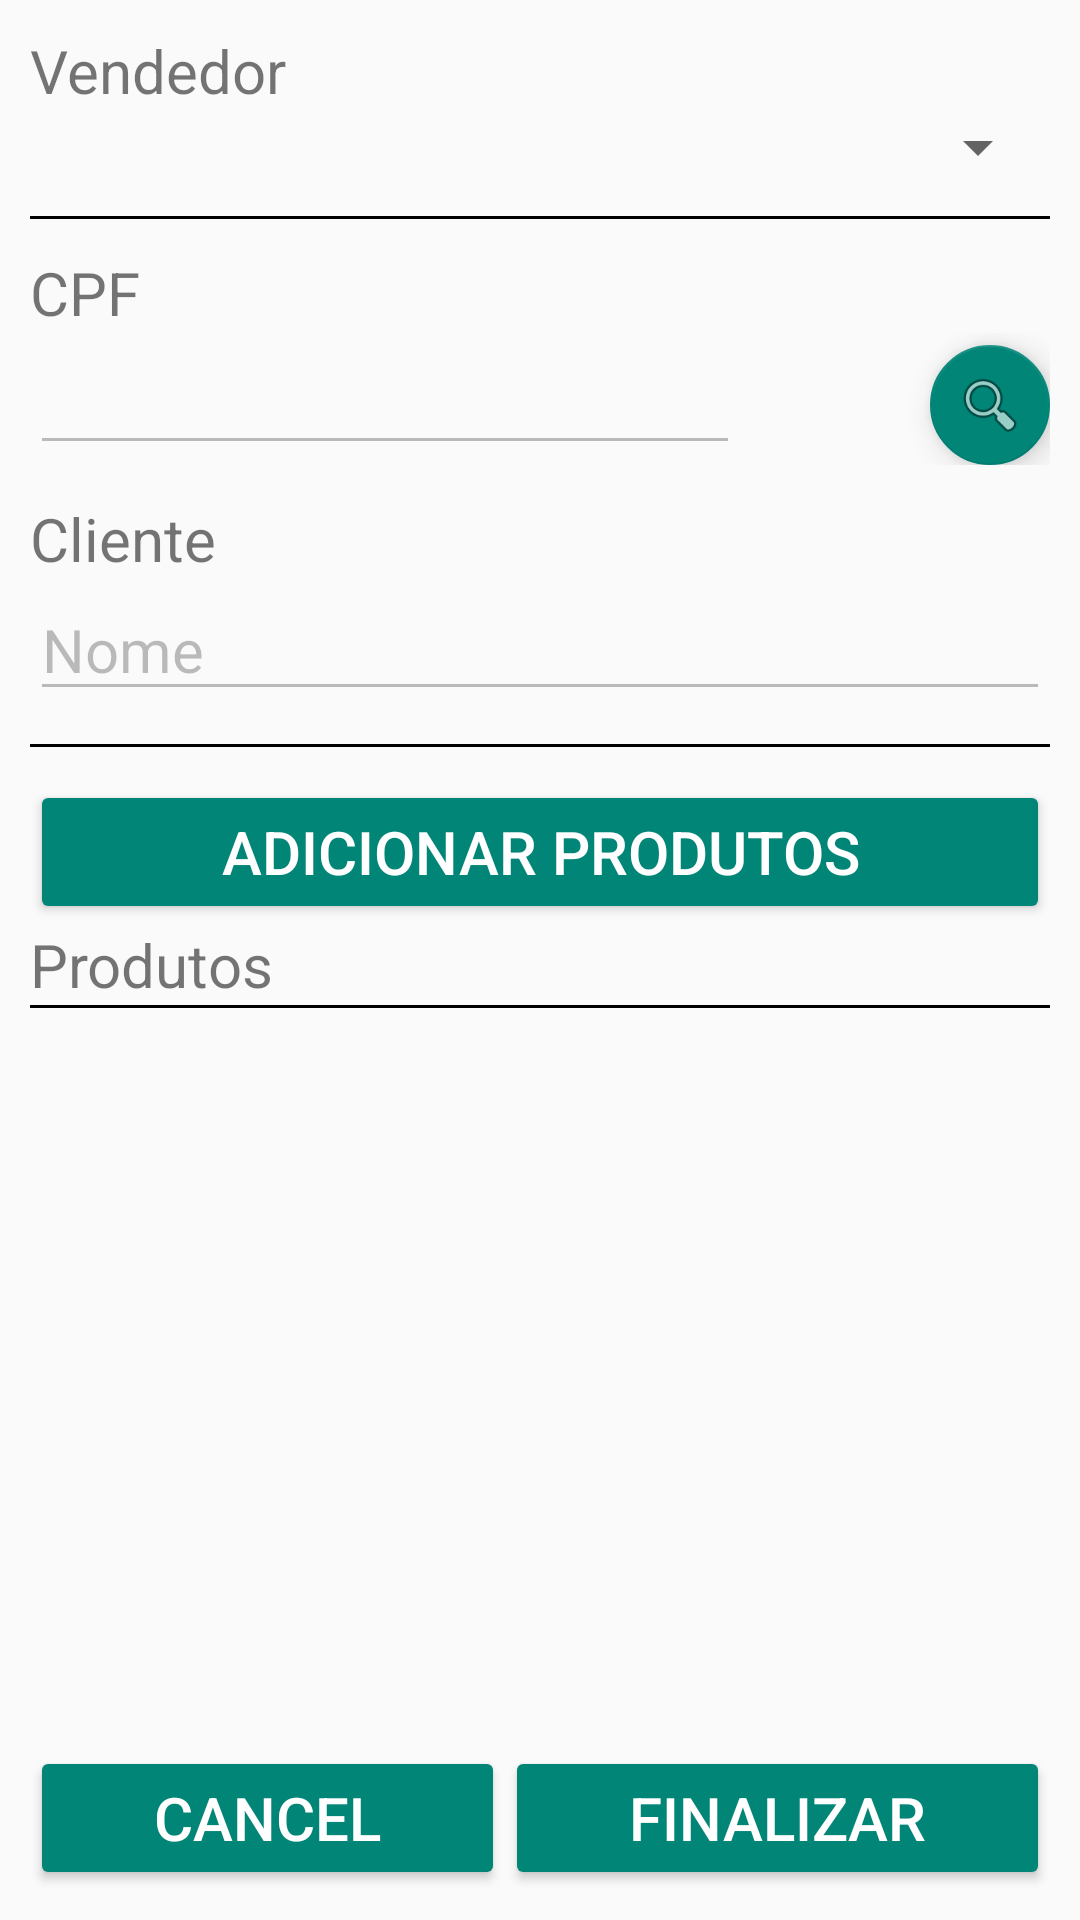

Where icons sit on this 1080 × 1920 app screen, as region(x1, y1, x2, y2):
search: region(930, 345, 1050, 465)
